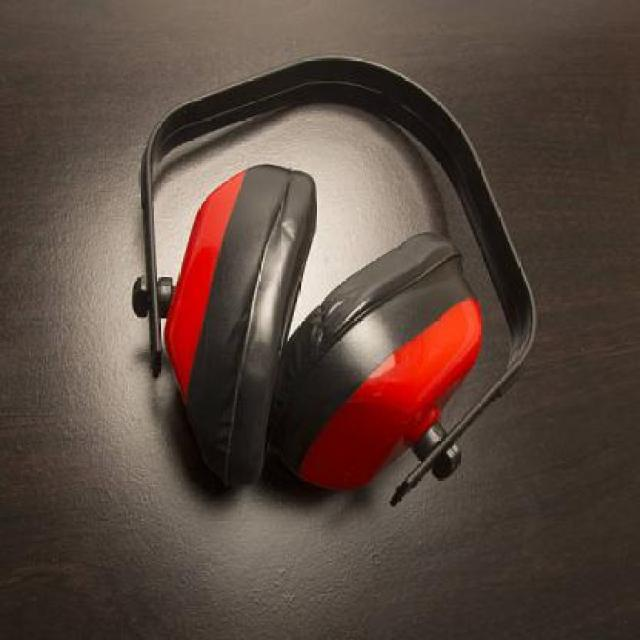Ear-protection: (146, 62, 531, 510)
